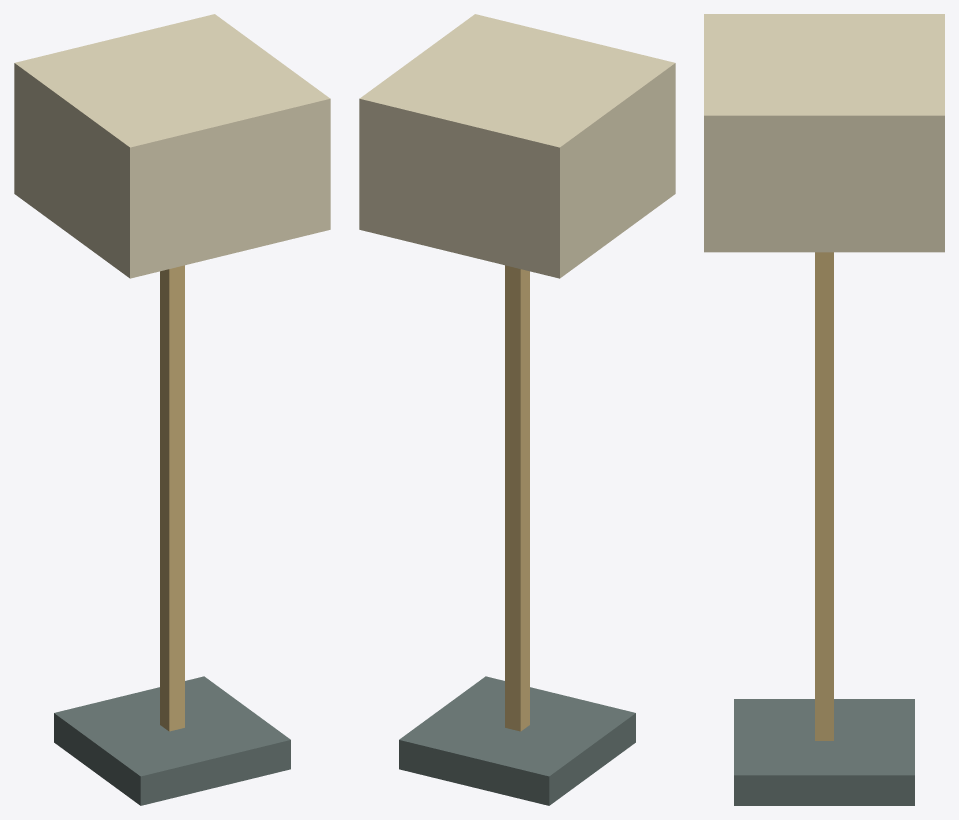
The model's file is lamp.glb.
3 views of the same model, side by side, from view 1: azimuth 30°, elevation 25°; view 2: azimuth 150°, elevation 25°; view 3: azimuth 270°, elevation 25° (orthographic). The views are drawn at different scales.
Parts seen in each view (by area): view 1: Shade, Base, Stem; view 2: Shade, Base, Stem; view 3: Shade, Base, Stem.
Part boxes in pixels (x1,y1,x2,y2): Shade: [14, 14, 330, 278]; Base: [54, 676, 290, 805]; Stem: [160, 265, 184, 731]; Shade: [359, 14, 675, 278]; Base: [399, 676, 635, 805]; Stem: [505, 265, 529, 731]; Shade: [704, 14, 944, 252]; Base: [734, 699, 914, 805]; Stem: [815, 252, 833, 740].
Size of the model in its own units: 0.64 by 2.06 by 0.64.
